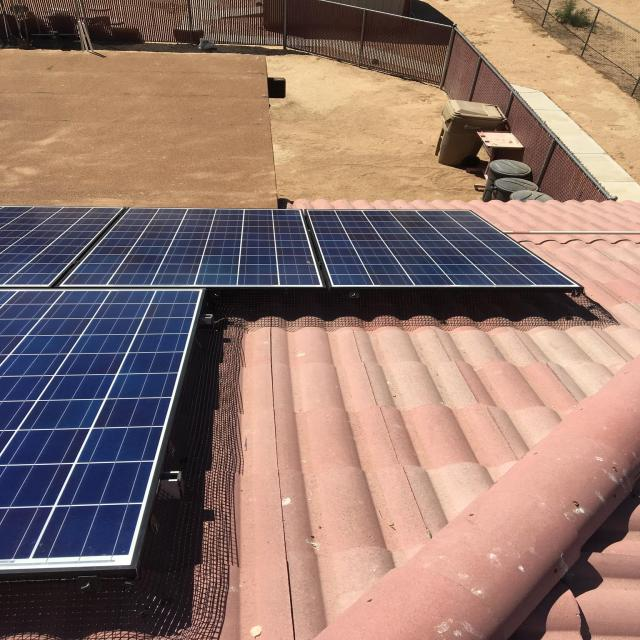clean-solar-panel: (0, 206, 577, 580)
